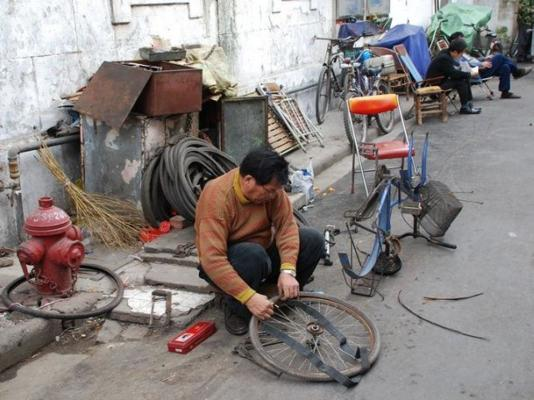person: (192, 149, 328, 337)
